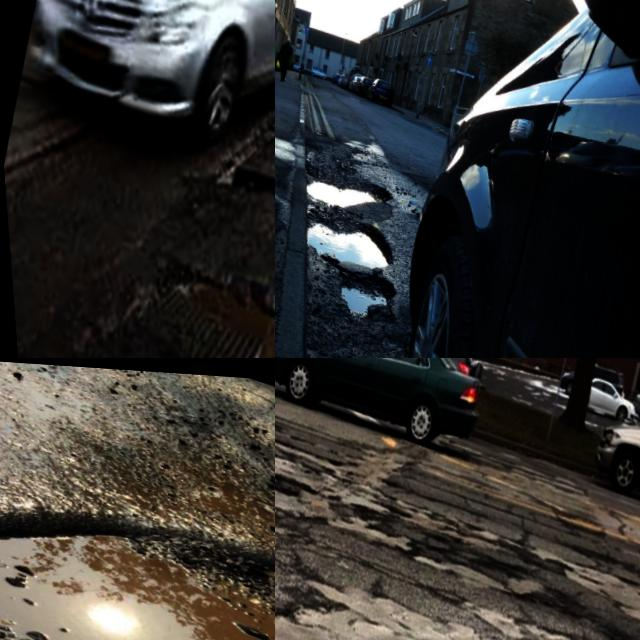Potholes: (0, 430, 275, 640), (275, 75, 467, 358), (317, 479, 552, 632), (99, 178, 275, 358), (541, 512, 640, 636), (221, 94, 275, 292)
